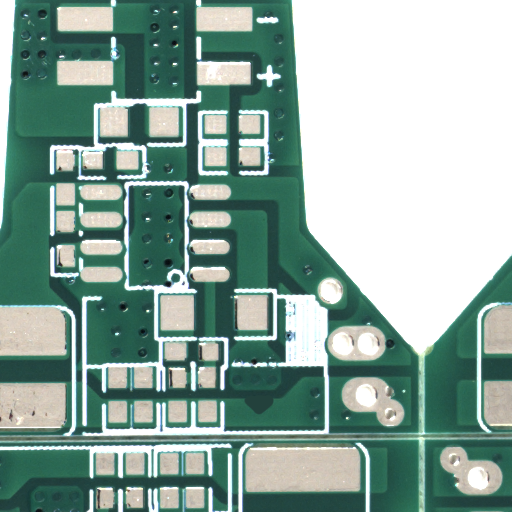Mouse_bite: (260, 406, 290, 424)
